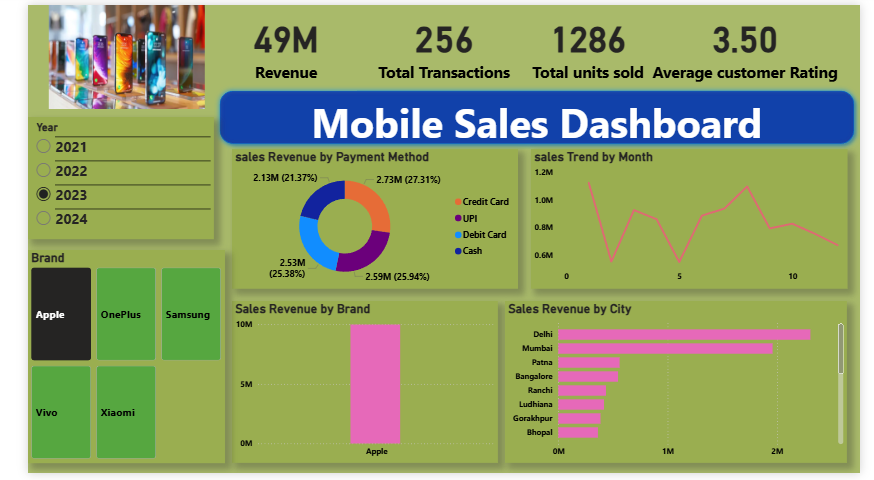

The page's visual inventory and layout, read from the dashboard file:
{"tool":"powerbi","page":{"name":"Sales","canvas":[1280,720],"ordinal":0},"visuals":[{"type":"shape","box":[286.6,122.4,993.6,99.4],"z":0},{"type":"card","fields":{"Values":["Sales.Revenue"]},"box":[286.2,0,221.5,123.1],"z":1000},{"type":"card","fields":{"Values":["Sales.Total Transactions"]},"box":[529.2,0,221.5,123.1],"z":2000},{"type":"card","fields":{"Values":["Sales.Total units sold"]},"box":[750.8,0,221.5,123.1],"z":3000},{"type":"card","fields":{"Values":["Sales.Average customer Rating"]},"box":[946.2,0,313.8,123.1],"z":4000},{"type":"donutChart","fields":{"Category":["Sales.Payment Method"],"Y":["Sum(Sales.Price Per Unit)"]},"box":[313.8,221.5,440,215.4],"z":5000},{"type":"lineChart","fields":{"Category":["Sales.Month"],"Y":["Sum(Sales.Price Per Unit)"]},"box":[773.3,221.8,486.7,214.6],"z":6000},{"type":"columnChart","fields":{"Category":["Sales.Brand"],"Y":["Sum(Sales.Price Per Unit)"]},"box":[313.8,455.4,409.2,249.2],"z":7000},{"type":"barChart","fields":{"Y":["Sum(Sales.Price Per Unit)"],"Category":["Sales.City"]},"box":[734.4,455,525.6,249.1],"z":8000},{"type":"slicer","fields":{"Values":["Sales.Year"]},"box":[0,172.3,286.2,187.7],"z":9000},{"type":"image","box":[0,0,303.1,160],"z":10000},{"type":"advancedSlicerVisual","fields":{"Values":["Sales.Brand"]},"box":[0,376.9,303.1,327.7],"z":11000}]}

Visuals, with their boxes in screenshot pixels (x1, y1, x2, y2), scaled from the page's 1280x720 canvas onto the 874x480 screenshot:
shape: BBox(196, 82, 873, 148)
card - Sales.Revenue: BBox(195, 0, 347, 82)
card - Sales.Total Transactions: BBox(361, 0, 513, 82)
card - Sales.Total units sold: BBox(513, 0, 664, 82)
card - Sales.Average customer Rating: BBox(646, 0, 860, 82)
donutChart - Sales.Payment Method x Sum(Sales.Price Per Unit): BBox(214, 148, 515, 291)
lineChart - Sales.Month x Sum(Sales.Price Per Unit): BBox(528, 148, 860, 291)
columnChart - Sales.Brand x Sum(Sales.Price Per Unit): BBox(214, 304, 494, 470)
barChart - Sum(Sales.Price Per Unit) x Sales.City: BBox(501, 303, 860, 469)
slicer - Sales.Year: BBox(0, 115, 195, 240)
image: BBox(0, 0, 207, 107)
advancedSlicerVisual - Sales.Brand: BBox(0, 251, 207, 470)
